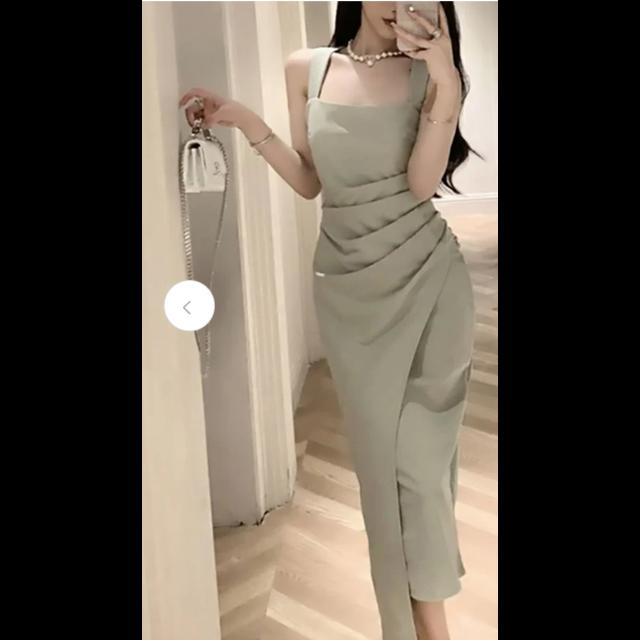dress: (312, 44, 472, 640)
handbag: (179, 132, 225, 274)
